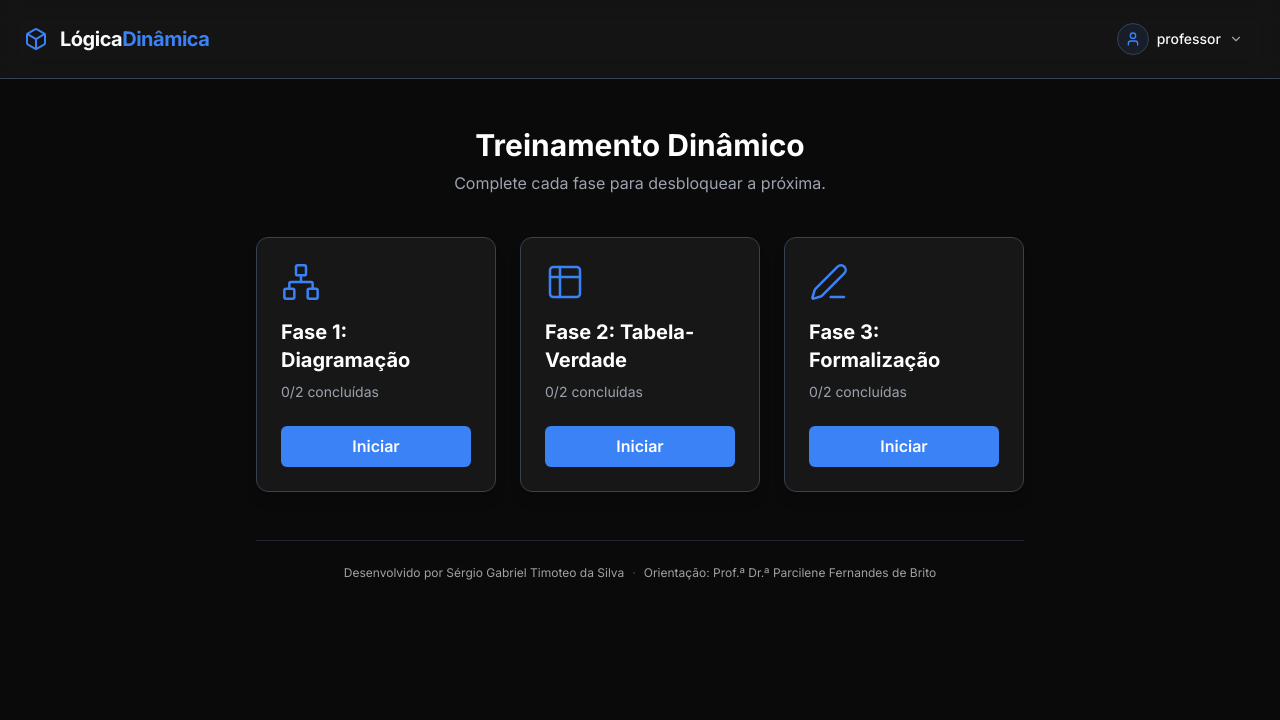
it: Lobby — Renderização Inicial › exibe o botão para "Modo Editor" dentro do menu de perfil se o usuário for professor (role: TEACHER)
The image size is (1280, 720).
Click the button with aria-label "Menu do usuário" at coordinates (1180, 39), box [1104,16,1256,62]
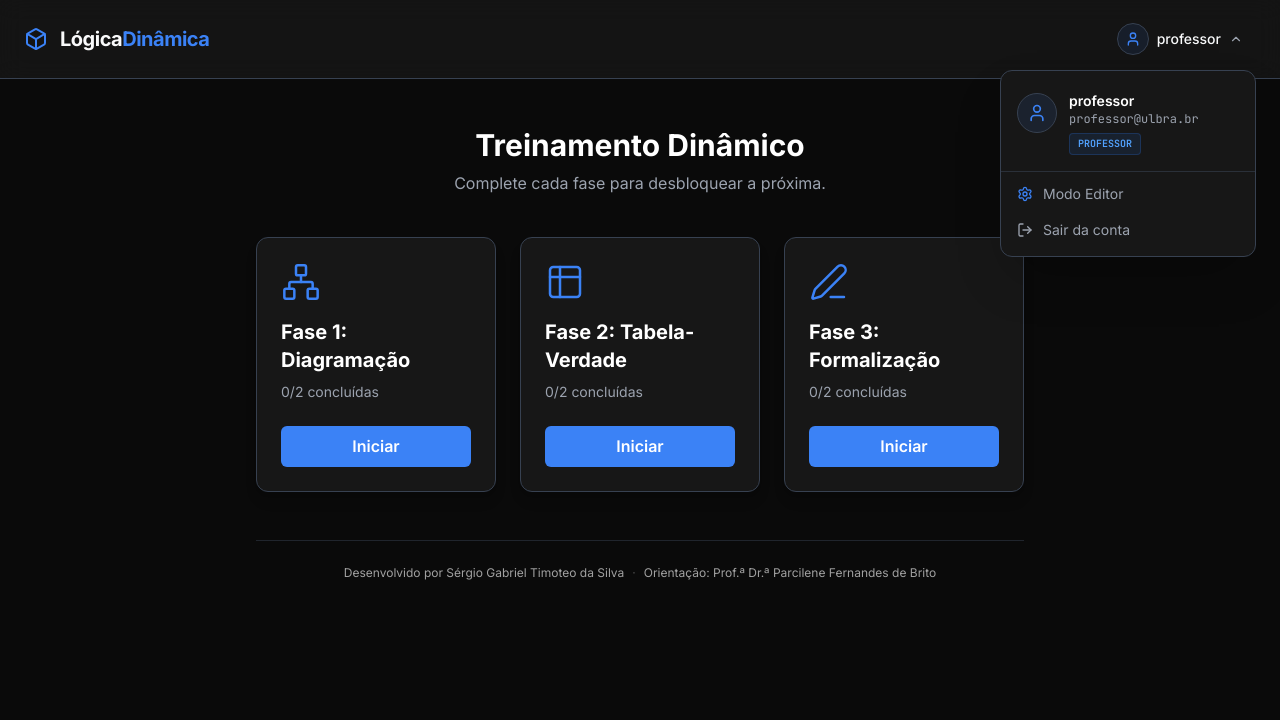
Result: the menu item "Modo Editor" is shown at [1017,185,1123,202]
